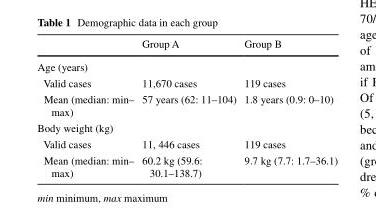table: (36, 37, 336, 178)
table column: (137, 37, 239, 178), (36, 37, 137, 178), (239, 37, 336, 178)
table column header: (36, 37, 336, 54)
table projected row header: (36, 54, 336, 74), (36, 119, 336, 135)
table row: (36, 90, 336, 119), (36, 151, 336, 178), (36, 54, 336, 74), (36, 37, 336, 54), (36, 74, 336, 90), (36, 119, 336, 135), (36, 135, 336, 151)
